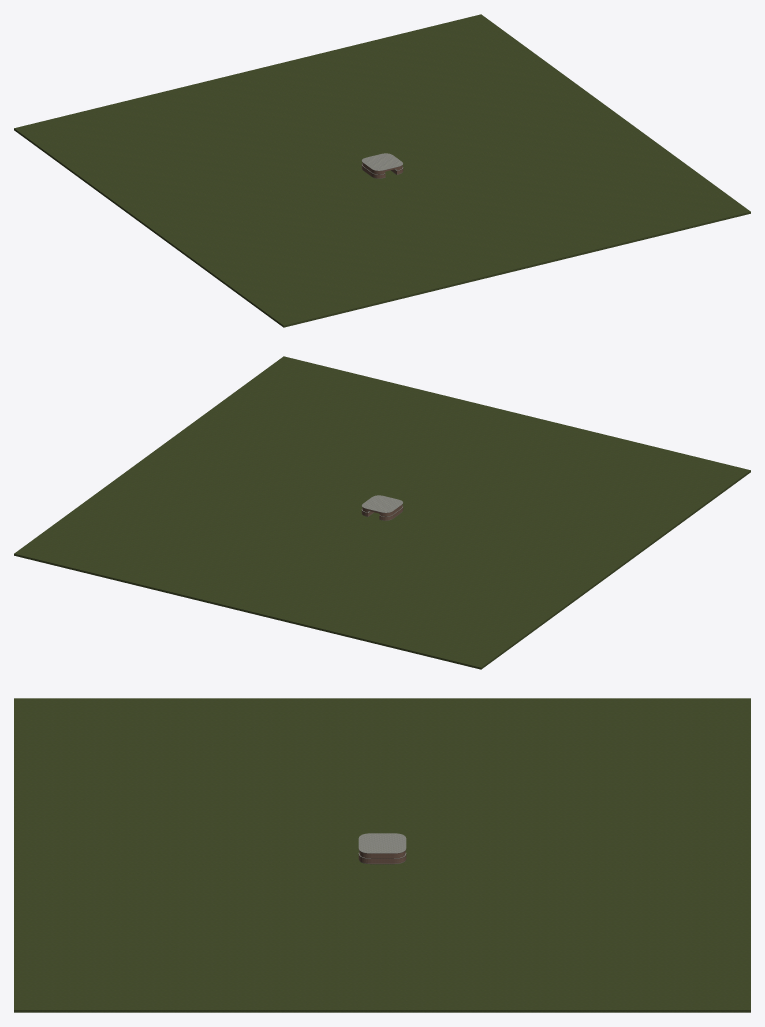
File: gm_flatgrass.glb
3 views of the same model, one above another, from view 1: azimuth 30°, elevation 25°; view 2: azimuth 150°, elevation 25°; view 3: azimuth 270°, elevation 25° (orthographic). The views are drawn at different scales.
Parts seen in each view (by area): view 1: worldspawn_1_690_79, worldspawn_1_592_65, worldspawn_1_725_84, worldspawn_1_641_72, worldspawn_1_746_87, worldspawn_1_585_64, worldspawn_1_627_70, worldspawn_1_669_76, worldspawn_1_732_85, worldspawn_1_704_81, worldspawn_1_606_67, worldspawn_1_648_73 (+4 smaller); view 2: worldspawn_1_725_84, worldspawn_1_641_72, worldspawn_1_690_79, worldspawn_1_592_65, worldspawn_1_746_87, worldspawn_1_669_76, worldspawn_1_627_70, worldspawn_1_585_64, worldspawn_1_704_81, worldspawn_1_732_85, worldspawn_1_648_73, worldspawn_1_606_67 (+4 smaller); view 3: worldspawn_1_592_65, worldspawn_1_641_72, worldspawn_1_690_79, worldspawn_1_725_84, worldspawn_1_627_70, worldspawn_1_585_64, worldspawn_1_669_76, worldspawn_1_746_87, worldspawn_1_599_66, worldspawn_1_655_74, worldspawn_1_606_67, worldspawn_1_648_73 (+12 smaller).
Boxes of the visible parts, x1,y1,x2,y2 form: worldspawn_1_690_79: [170, 195, 479, 327]; worldspawn_1_592_65: [442, 129, 750, 261]; worldspawn_1_725_84: [14, 80, 322, 212]; worldspawn_1_641_72: [285, 14, 593, 144]; worldspawn_1_746_87: [140, 173, 352, 234]; worldspawn_1_585_64: [389, 182, 532, 274]; worldspawn_1_627_70: [412, 106, 624, 166]; worldspawn_1_669_76: [233, 67, 375, 157]; worldspawn_1_732_85: [127, 163, 335, 222]; worldspawn_1_704_81: [157, 185, 365, 244]; worldspawn_1_606_67: [429, 119, 637, 176]; worldspawn_1_648_73: [399, 97, 606, 154]; worldspawn_1_725_84: [285, 537, 594, 669]; worldspawn_1_641_72: [14, 471, 322, 603]; worldspawn_1_690_79: [442, 422, 750, 554]; worldspawn_1_592_65: [171, 356, 479, 486]; worldspawn_1_746_87: [412, 515, 624, 576]; worldspawn_1_669_76: [232, 524, 375, 616]; worldspawn_1_627_70: [140, 448, 352, 508]; worldspawn_1_585_64: [389, 409, 531, 499]; worldspawn_1_704_81: [429, 505, 637, 564]; worldspawn_1_732_85: [399, 527, 607, 586]; worldspawn_1_648_73: [127, 461, 335, 518]; worldspawn_1_606_67: [158, 439, 365, 496]; worldspawn_1_592_65: [14, 879, 322, 1012]; worldspawn_1_641_72: [442, 879, 750, 1012]; worldspawn_1_690_79: [14, 698, 322, 828]; worldspawn_1_725_84: [442, 698, 750, 828]; worldspawn_1_627_70: [358, 879, 406, 1012]; worldspawn_1_585_64: [14, 844, 322, 864]; worldspawn_1_669_76: [442, 844, 750, 864]; worldspawn_1_746_87: [358, 698, 406, 828]; worldspawn_1_599_66: [14, 864, 322, 879]; worldspawn_1_655_74: [442, 864, 750, 879]; worldspawn_1_606_67: [323, 879, 358, 1012]; worldspawn_1_648_73: [406, 879, 441, 1012].
Bounding box in the file's own units: 317 × 6.4 × 317.
9 materials, 8 textured.
